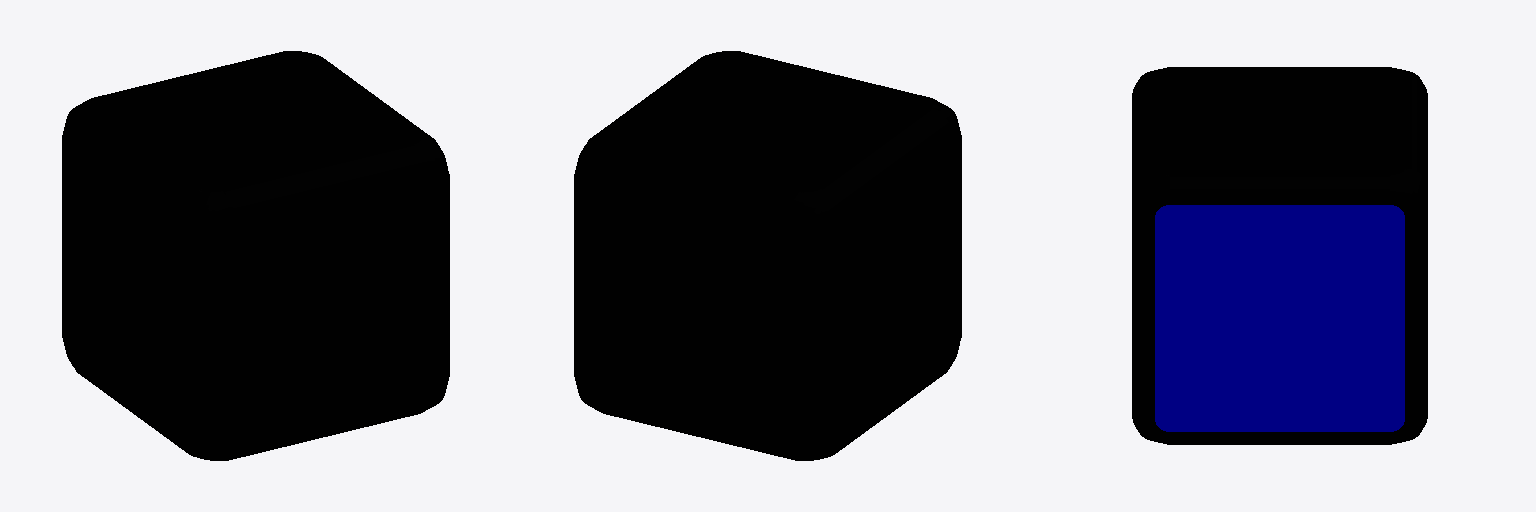
Rendered from edge_by.obj.
3 renders of one model, left to right at view 1: azimuth 30°, elevation 25°; view 2: azimuth 150°, elevation 25°; view 3: azimuth 270°, elevation 25°, orthographic.
Visible parts, largest first — view 1: Cube; view 2: Cube; view 3: Cube.
Boxes of the visible parts, box(x1,y1,x2,y2) form: Cube: box(62, 51, 449, 460); Cube: box(574, 51, 961, 460); Cube: box(1132, 67, 1427, 444).
Size of the model in its own units: 2 by 2 by 2.